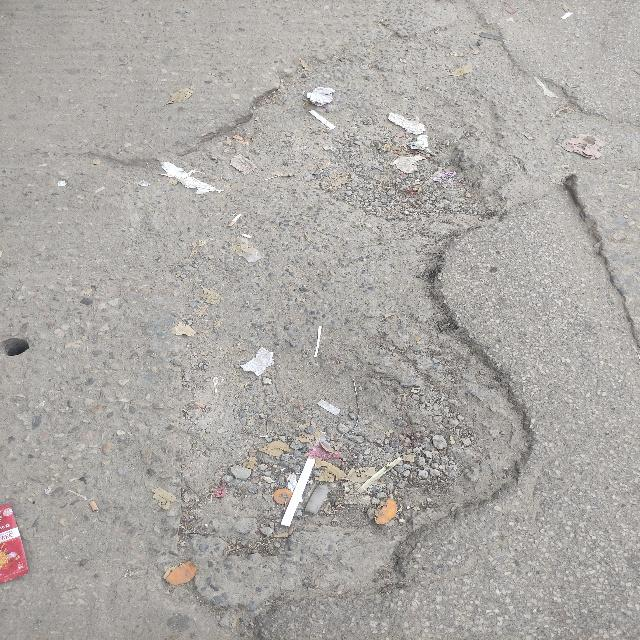Surface Erosion: (118, 2, 613, 590)
